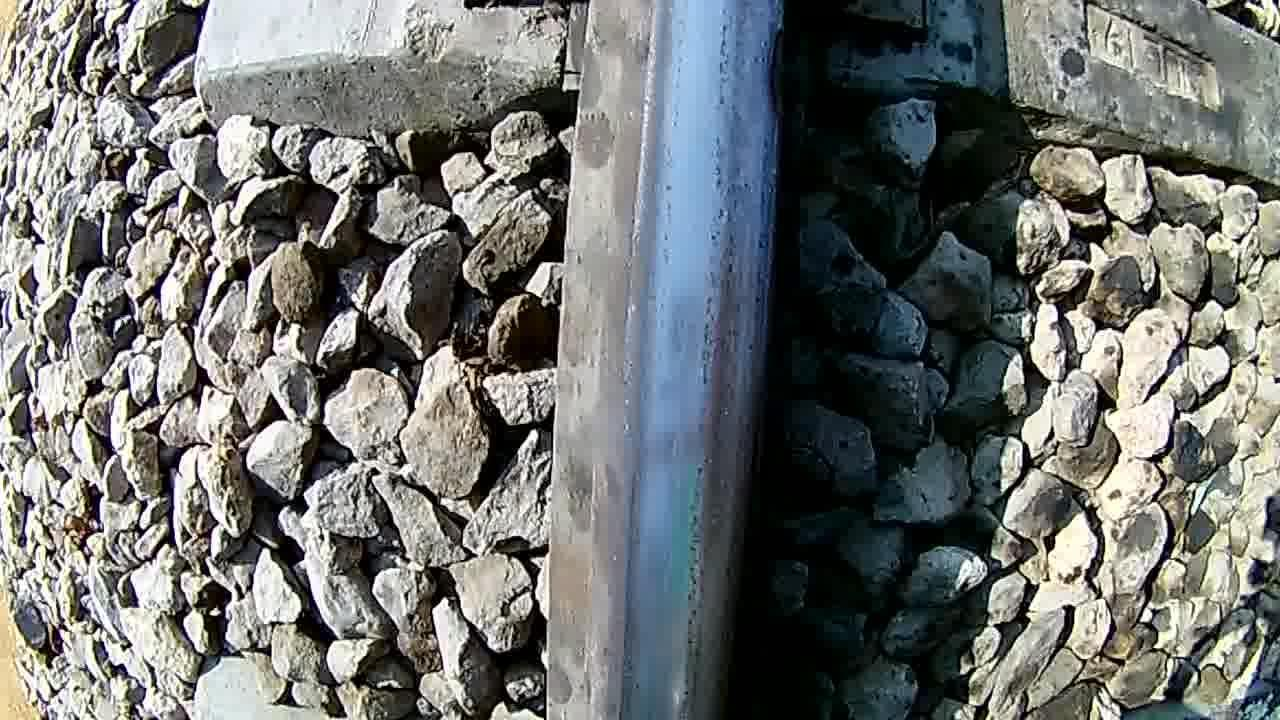crack: (570, 2, 766, 720)
